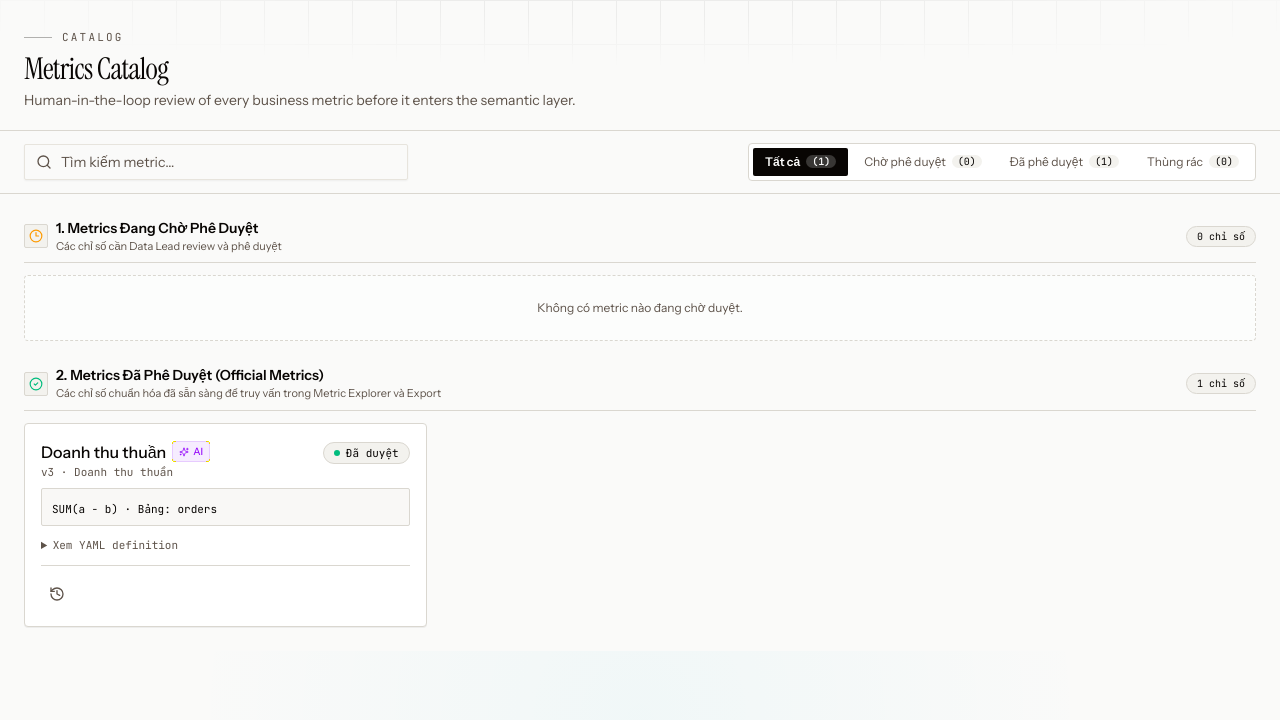
Test: MetricsCatalogView history modal › rejects equal selections instead of rendering an empty diff
The image size is (1280, 720).
Click the button titled "Xem lịch sử phiên bản" at {"x": 57, "y": 594}, box [41,578,73,610]
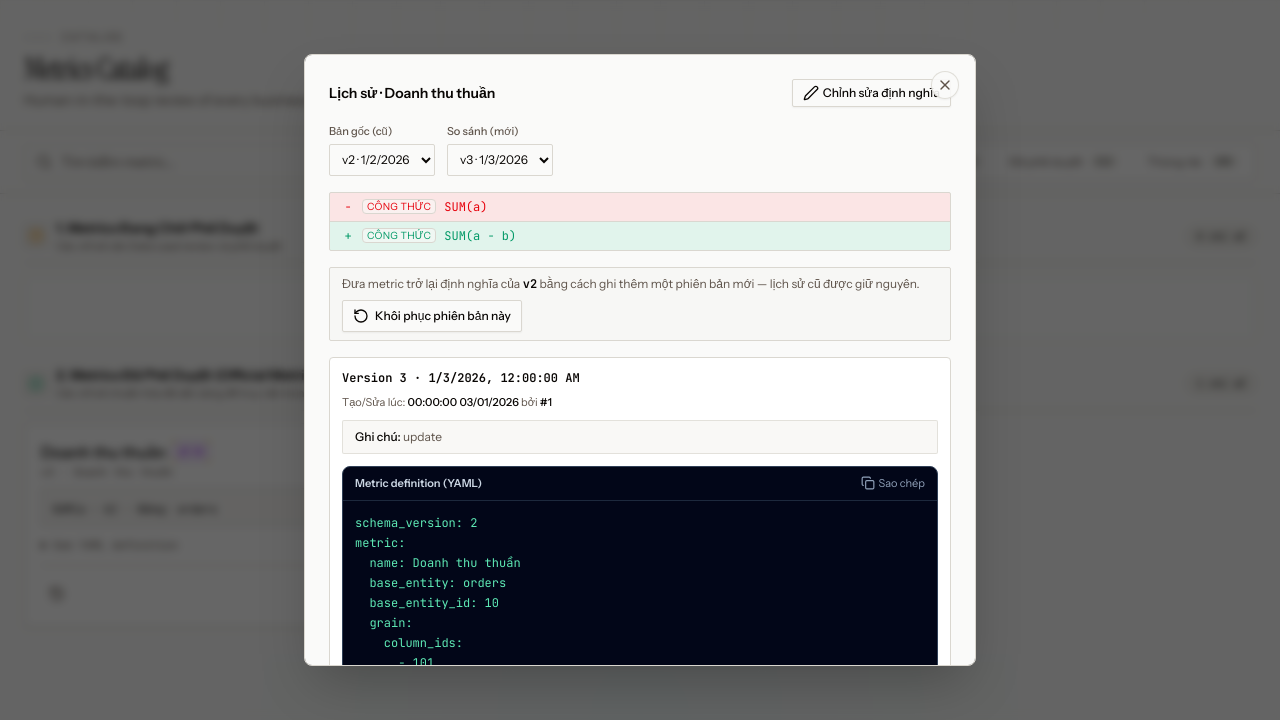
Now the dialog is shown, box [304,54,976,666]
Select "v3 · 1/3/2026" in the dropdown labelled "Bản gốc (cũ)" at {"x": 382, "y": 160}, box [329,144,435,176]
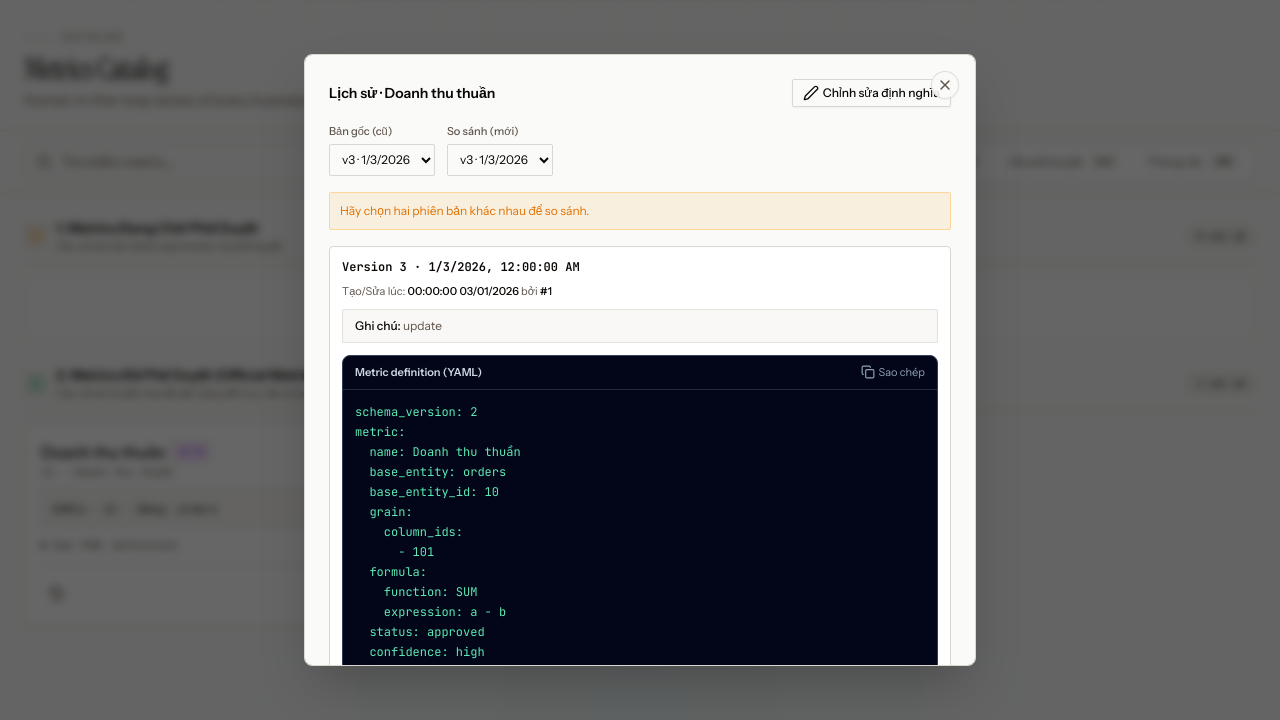
Now the text "Hãy chọn hai phiên bản khác nhau để so sánh." is shown, box [329,192,951,230]
Now the list with test id "metric-version-diff" is gone
